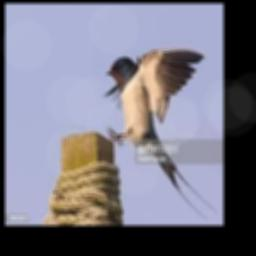Swallow: (104, 49, 218, 217)
